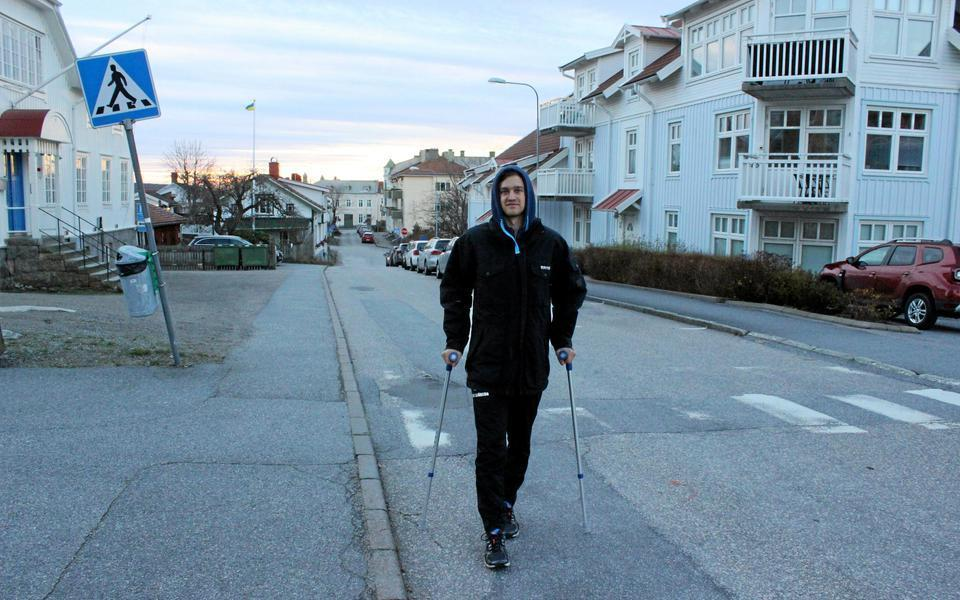crutches: (413, 159, 602, 579)
